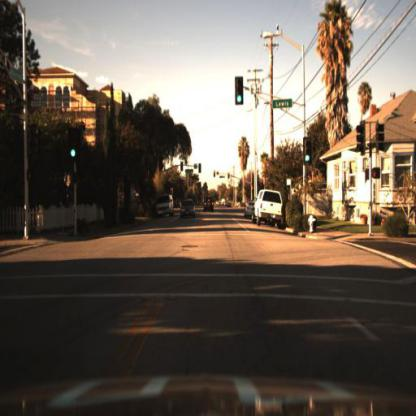car: (255, 190, 286, 230), (155, 194, 173, 222), (180, 198, 197, 221), (204, 198, 217, 216)
trafficLight-Green: (233, 87, 245, 113), (303, 135, 313, 166), (69, 146, 81, 167), (69, 133, 79, 158), (236, 76, 245, 103)
